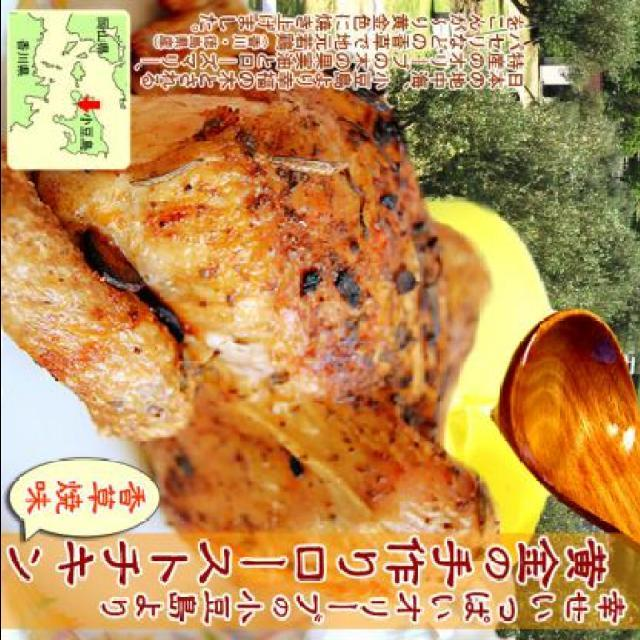Chicken roast: (70, 101, 459, 518)
